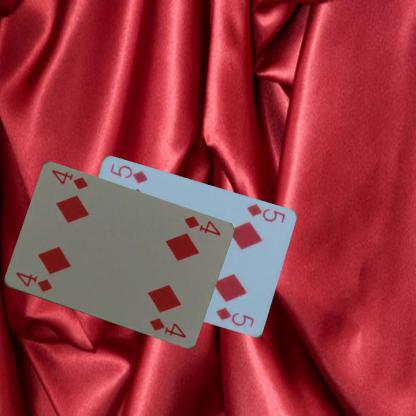4d: (13, 269, 55, 294), (181, 213, 222, 237)
5d: (244, 201, 286, 225)
